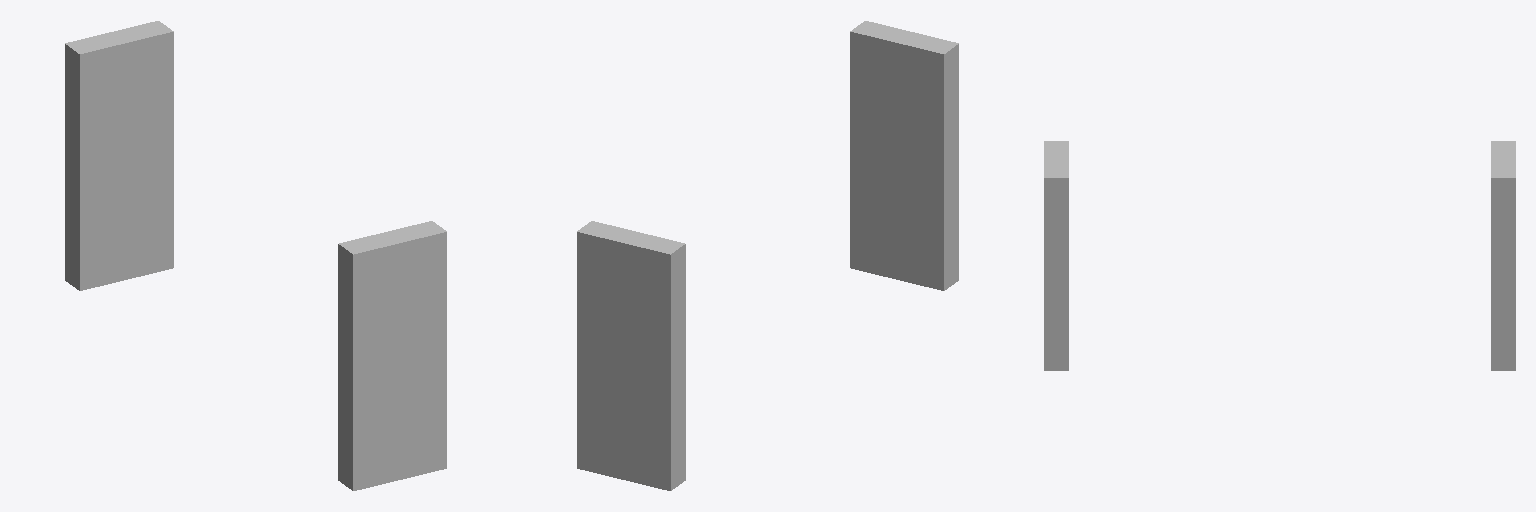
The robot description file, URDF, robot "lbr_iiwa":
<?xml version="1.0" ?>
<!-- ======================================================================= -->
<!-- | This document was autogenerated by xacro from lbr_iiwa.urdf.xacro   | -->
<!-- | Original xacro: https://github.com/rtkg/lbr_iiwa/archive/master.zip | -->
<!-- | EDITING THIS FILE BY HAND IS NOT RECOMMENDED                        | -->
<!-- | Changes ([author]):                                                 | -->
<!-- |   * Removed gazebo tags.                                            | -->
<!-- |   * Removed unused materials.                                       | -->
<!-- |   * Made mesh paths relative.                                       | -->
<!-- |   * Removed material fields from collision segments.                | -->
<!-- |   * Removed the self_collision_checking segment.                    | -->
<!-- |   * Removed transmission segments, since they didn't match the      | -->
<!-- |     convention, will have to added back later.                      | -->
<!-- ======================================================================= -->
<!--LICENSE:                                                                 -->
<!--Copyright (c) 2015, [author] & [author], AASS Research Center,  -->
<!--Orebro University, Sweden                                                -->
<!--All rights reserved.                                                     -->
<!--                                                                         -->
<!--Redistribution and use in source and binary forms, with or without       -->
<!--modification, are permitted provided that the following conditions are   -->
<!--met:                                                                     -->
<!--                                                                         -->
<!--1. Redistributions of source code must retain the above copyright notice,-->
<!--   this list of conditions and the following disclaimer.                 -->
<!--                                                                         -->
<!--2. Redistributions in binary form must reproduce the above copyright     -->
<!--   notice, this list of conditions and the following disclaimer in the   -->
<!--   documentation and/or other materials provided with the distribution.  -->
<!--                                                                         -->
<!--THIS SOFTWARE IS PROVIDED BY THE COPYRIGHT [author] "AS  -->
<!--IS" AND ANY EXPRESS OR IMPLIED WARRANTIES, INCLUDING, BUT NOT LIMITED TO,-->
<!--THE IMPLIED WARRANTIES OF MERCHANTABILITY AND FITNESS FOR A PARTICULAR   -->
<!--PURPOSE ARE DISCLAIMED. IN NO EVENT SHALL THE COPYRIGHT [author]        -->
<!--CONTRIBUTORS BE LIABLE FOR ANY DIRECT, INDIRECT, INCIDENTAL, SPECIAL,    -->
<!--EXEMPLARY, OR CONSEQUENTIAL DAMAGES (INCLUDING, BUT NOT LIMITED TO,      -->
<!--PROCUREMENT OF SUBSTITUTE GOODS OR SERVICES; LOSS OF USE, DATA, OR       -->
<!--PROFITS; OR BUSINESS INTERRUPTION) HOWEVER CAUSED AND ON ANY THEORY OF   -->
<!--LIABILITY, WHETHER IN CONTRACT, STRICT LIABILITY, OR TORT (INCLUDING     -->
<!--NEGLIGENCE OR OTHERWISE) ARISING IN ANY WAY OUT OF THE USE OF THIS       -->
<!--SOFTWARE, EVEN IF ADVISED OF THE POSSIBILITY OF SUCH DAMAGE.             -->
<robot name="lbr_iiwa" xmlns:xacro="http://www.ros.org/wiki/xacro">
  <!-- Import Rviz colors -->
  <material name="Grey">
    <color rgba="0.8 0.8 0.8 1"/>
  </material>
  <material name="Orange">
    <color rgba="1.0 0.423529411765 0.0392156862745 1.0"/>
  </material>
  <material name="Blue">
    <color rgba="0.8 0.8 0.8 1"/>
  </material>
  <material name="Metal">
    <color rgba="0.8 0.8 0.8 1"/>
    <!--color rgba="0.792156862745098 0.819607843137255 0.933333333333333 1"/  -->
  </material>


  <!--Import the lbr iiwa macro -->
  <!--Import Transmissions -->
  <!--Include Utilities -->
  <!--The following macros are adapted from the LWR 4 definitions of the RCPRG - https://github.com/RCPRG-ros-pkg/lwr_robot -->
  <!--Little helper macros to define the inertia matrix needed for links.-->
  <!--Cuboid-->
  <!--Cylinder: length is along the y-axis! -->
  <!--lbr-->
  <link name="lbr_iiwa_link_0">
    <inertial>
      <origin rpy="0 0 0" xyz="-0.1 0 0.07"/>
      <!--Increase mass from 5 Kg original to provide a stable base to carry the
          arm.-->
      <mass value="0.0"/>
      <!-- <mass value="5.0"/> -->
      <inertia ixx="0.05" ixy="0" ixz="0" iyy="0.06" iyz="0" izz="0.03"/>
    </inertial>
    <visual>
      <origin rpy="0 0 0" xyz="0 0 0"/>
      <geometry>
        <mesh filename="meshes/link_0.obj"/>
      </geometry>
      <material name="Grey"/>
    </visual>
    <collision>
      <origin rpy="0 0 0" xyz="0 0 0"/>
      <geometry>
        <mesh filename="meshes/link_0.stl"/>
      </geometry>
    </collision>
  </link>
  <!-- joint between link_0 and link_1 -->
  <joint name="lbr_iiwa_joint_1" type="revolute">
    <parent link="lbr_iiwa_link_0"/>
    <child link="lbr_iiwa_link_1"/>
    <origin rpy="0 0 0" xyz="0 0 0.1575"/>
    <axis xyz="0 0 1"/>
    <limit effort="300" lower="-2.96705972839" upper="2.96705972839" velocity="10"/>
    <dynamics damping="0.5"/>
  </joint>
  <link name="lbr_iiwa_link_1">
    <inertial>
      <origin rpy="0 0 0" xyz="0 -0.03 0.12"/>
      <mass value="4"/>
      <inertia ixx="0.1" ixy="0" ixz="0" iyy="0.09" iyz="0" izz="0.02"/>
    </inertial>
    <visual>
      <origin rpy="0 0 0" xyz="0 0 0"/>
      <geometry>
        <mesh filename="meshes/link_1.obj"/>
      </geometry>
      <material name="Blue"/>
    </visual>
    <collision>
      <origin rpy="0 0 0" xyz="0 0 0"/>
      <geometry>
        <mesh filename="meshes/link_1.stl"/>
      </geometry>
    </collision>
  </link>
  <!-- joint between link_1 and link_2 -->
  <joint name="lbr_iiwa_joint_2" type="revolute">
    <parent link="lbr_iiwa_link_1"/>
    <child link="lbr_iiwa_link_2"/>
    <origin rpy="1.57079632679   0 3.14159265359" xyz="0 0 0.2025"/>
    <axis xyz="0 0 1"/>
    <limit effort="300" lower="-2.09439510239" upper="2.09439510239" velocity="10"/>
    <dynamics damping="0.5"/>
  </joint>
  <link name="lbr_iiwa_link_2">
    <inertial>
      <origin rpy="0 0 0" xyz="0.0003 0.059 0.042"/>
      <mass value="4"/>
      <inertia ixx="0.05" ixy="0" ixz="0" iyy="0.018" iyz="0" izz="0.044"/>
    </inertial>
    <visual>
      <origin rpy="0 0 0" xyz="0 0 0"/>
      <geometry>
        <mesh filename="meshes/link_2.obj"/>
      </geometry>
      <material name="Blue"/>
    </visual>
    <collision>
      <origin rpy="0 0 0" xyz="0 0 0"/>
      <geometry>
        <mesh filename="meshes/link_2.stl"/>
      </geometry>
    </collision>
  </link>
  <!-- joint between link_2 and link_3 -->
  <joint name="lbr_iiwa_joint_3" type="revolute">
    <parent link="lbr_iiwa_link_2"/>
    <child link="lbr_iiwa_link_3"/>
    <origin rpy="1.57079632679 0 3.14159265359" xyz="0 0.2045 0"/>
    <axis xyz="0 0 1"/>
    <limit effort="300" lower="-2.96705972839" upper="2.96705972839" velocity="10"/>
    <dynamics damping="0.5"/>
  </joint>
  <link name="lbr_iiwa_link_3">
    <inertial>
      <origin rpy="0 0 0" xyz="0 0.03 0.13"/>
      <mass value="3"/>
      <inertia ixx="0.08" ixy="0" ixz="0" iyy="0.075" iyz="0" izz="0.01"/>
    </inertial>
    <visual>
      <origin rpy="0 0 0" xyz="0 0 0"/>
      <geometry>
        <mesh filename="meshes/link_3.obj"/>
      </geometry>
      <material name="Orange"/>
    </visual>
    <collision>
      <origin rpy="0 0 0" xyz="0 0 0"/>
      <geometry>
        <mesh filename="meshes/link_3.stl"/>
      </geometry>
    </collision>
  </link>
  <!-- joint between link_3 and link_4 -->
  <joint name="lbr_iiwa_joint_4" type="revolute">
    <parent link="lbr_iiwa_link_3"/>
    <child link="lbr_iiwa_link_4"/>
    <origin rpy="1.57079632679 0 0" xyz="0 0 0.2155"/>
    <axis xyz="0 0 1"/>
    <limit effort="300" lower="-2.09439510239" upper="2.09439510239" velocity="10"/>
    <dynamics damping="0.5"/>
  </joint>
  <link name="lbr_iiwa_link_4">
    <inertial>
      <origin rpy="0 0 0" xyz="0 0.067 0.034"/>
      <mass value="2.7"/>
      <inertia ixx="0.03" ixy="0" ixz="0" iyy="0.01" iyz="0" izz="0.029"/>
    </inertial>
    <visual>
      <origin rpy="0 0 0" xyz="0 0 0"/>
      <geometry>
        <mesh filename="meshes/link_4.obj"/>
      </geometry>
      <material name="Blue"/>
    </visual>
    <collision>
      <origin rpy="0 0 0" xyz="0 0 0"/>
      <geometry>
        <mesh filename="meshes/link_4.stl"/>
      </geometry>
    </collision>
  </link>
  <!-- joint between link_4 and link_5 -->
  <joint name="lbr_iiwa_joint_5" type="revolute">
    <parent link="lbr_iiwa_link_4"/>
    <child link="lbr_iiwa_link_5"/>
    <origin rpy="-1.57079632679 3.14159265359 0" xyz="0 0.1845 0"/>
    <axis xyz="0 0 1"/>
    <limit effort="300" lower="-2.96705972839" upper="2.96705972839" velocity="10"/>
    <dynamics damping="0.5"/>
  </joint>
  <link name="lbr_iiwa_link_5">
    <inertial>
      <origin rpy="0 0 0" xyz="0.0001 0.021 0.076"/>
      <mass value="1.7"/>
      <inertia ixx="0.02" ixy="0" ixz="0" iyy="0.018" iyz="0" izz="0.005"/>
    </inertial>
    <visual>
      <origin rpy="0 0 0" xyz="0 0 0"/>
      <geometry>
        <mesh filename="meshes/link_5.obj"/>
      </geometry>
      <material name="Blue"/>
    </visual>
    <collision>
      <origin rpy="0 0 0" xyz="0 0 0"/>
      <geometry>
        <mesh filename="meshes/link_5.stl"/>
      </geometry>
    </collision>
  </link>
  <!-- joint between link_5 and link_6 -->
  <joint name="lbr_iiwa_joint_6" type="revolute">
    <parent link="lbr_iiwa_link_5"/>
    <child link="lbr_iiwa_link_6"/>
    <origin rpy="1.57079632679 0 0" xyz="0 0 0.2155"/>
    <axis xyz="0 0 1"/>
    <limit effort="300" lower="-2.09439510239" upper="2.09439510239" velocity="10"/>
    <dynamics damping="0.5"/>
  </joint>
  <link name="lbr_iiwa_link_6">
    <inertial>
      <origin rpy="0 0 0" xyz="0 0.0006 0.0004"/>
      <mass value="1.8"/>
      <inertia ixx="0.005" ixy="0" ixz="0" iyy="0.0036" iyz="0" izz="0.0047"/>
    </inertial>
    <visual>
      <origin rpy="0 0 0" xyz="0 0 0"/>
      <geometry>
        <mesh filename="meshes/link_6.obj"/>
      </geometry>
      <material name="Orange"/>
    </visual>
    <collision>
      <origin rpy="0 0 0" xyz="0 0 0"/>
      <geometry>
        <mesh filename="meshes/link_6.stl"/>
      </geometry>
    </collision>
  </link>
  <!-- joint between link_6 and link_7 -->
  <joint name="lbr_iiwa_joint_7" type="revolute">
    <parent link="lbr_iiwa_link_6"/>
    <child link="lbr_iiwa_link_7"/>
    <origin rpy="-1.57079632679 3.14159265359 0" xyz="0 0.081 0"/>
    <axis xyz="0 0 1"/>
    <limit effort="300" lower="-3.05432619099" upper="3.05432619099" velocity="10"/>
    <dynamics damping="0.5" friction="1.0"/>
  </joint>
  <link name="lbr_iiwa_link_7">
    <inertial>
      <origin rpy="0 0 0" xyz="0 0 0.02"/>
      <!-- <mass value="0.3"/> -->
      <mass value="1.0"/>
      <inertia ixx="0.001" ixy="0" ixz="0" iyy="0.001" iyz="0" izz="0.001"/>
    </inertial>
    <visual>
      <origin rpy="0 0 0" xyz="0 0 0"/>
      <geometry>
        <mesh filename="meshes/link_7.obj"/>
      </geometry>
      <material name="Grey"/>
    </visual>
    <collision>
      <origin rpy="0 0 0" xyz="0 0 0"/>
      <geometry>
        <mesh filename="meshes/link_7.stl"/>
      </geometry>
    </collision>
  </link>


  <joint name="joint_vacuum_tip" type="revolute">
    <origin rpy="0 0 0" xyz="0.0 0.0 0.01"/>
    <parent link="lbr_iiwa_link_7"/>
    <child link="robotiq_arg2f_base_link"/>
    <axis xyz="0 0 1"/>
    <limit effort="1000" lower="-200" upper="200" velocity="2.0"/>
  </joint>


<!--################################################
  ########              gripper                  #####
  ####################################################-->

  <link name="robotiq_arg2f_base_link">
    <inertial>
      <origin rpy="0 0 0" xyz="8.625E-08 -4.6583E-06 0.03145"/>
      <mass value="0.22652"/>
      <inertia ixx="0.00020005" ixy="-4.2442E-10" ixz="-2.9069E-10" iyy="0.00017832" iyz="-3.4402E-08" izz="0.00013478"/>
    </inertial>
    <visual>
      <origin rpy="0 0 0" xyz="0 0 0"/>
      <geometry>
        <mesh filename="robotiq_140/visual/robotiq_arg2f_base_link.stl"/>
      </geometry>
      <material name="">
        <color rgba="0.1 0.1 0.1 1"/>
      </material>
    </visual>
    <collision>
      <origin rpy="0 0 0" xyz="0 0 0"/>
      <geometry>
        <mesh filename="robotiq_140/collision/robotiq_arg2f_base_link.stl"/>
      </geometry>
    </collision>
  </link>
  <link name="left_outer_knuckle">
    <inertial>
      <origin rpy="0 0 0" xyz="-0.000200000000003065 0.0199435877845359 0.0292245259211331"/>
      <mass value="0.00853198276973456"/>
      <inertia ixx="2.89328108496468E-06" ixy="-1.57935047237397E-19" ixz="-1.93980378593255E-19" iyy="1.86719750325683E-06" iyz="-1.21858577871576E-06" izz="1.21905238907251E-06"/>
    </inertial>
    <visual>
      <origin rpy="0 0 0" xyz="0 0 0"/>
      <geometry>
        <mesh filename="robotiq_140/visual/robotiq_arg2f_140_outer_knuckle.stl"/>
      </geometry>
      <material name="Metal"/>
    </visual>
    <collision>
      <origin rpy="0 0 0" xyz="0 0 0"/>
      <geometry>
        <mesh filename="robotiq_140/collision/robotiq_arg2f_140_outer_knuckle.stl"/>
      </geometry>
    </collision>
  </link>
  <link name="left_outer_finger">
    <inertial>
      <origin rpy="0 0 0" xyz="0.00030115855001899 0.0373907951953854 -0.0208027427000385"/>
      <mass value="0.022614240507152"/>
      <inertia ixx="1.52518312458174E-05" ixy="9.76583423954399E-10" ixz="-5.43838577022588E-10" iyy="6.17694243867776E-06" iyz="6.78636130740228E-06" izz="1.16494917907219E-05"/>
    </inertial>
    <visual>
      <origin rpy="0 0 0" xyz="0 0 0"/>
      <geometry>
        <mesh filename="robotiq_140/visual/robotiq_arg2f_140_outer_finger.stl"/>
      </geometry>
      <material name="">
        <color rgba="0.1 0.1 0.1 1"/>
      </material>
    </visual>
    <collision>
      <origin rpy="0 0 0" xyz="0 0 0"/>
      <geometry>
        <mesh filename="robotiq_140/collision/robotiq_arg2f_140_outer_finger.stl"/>
      </geometry>
    </collision>
  </link>
  <link name="left_inner_finger">
    <inertial>
      <origin rpy="0 0 0" xyz="0.000299999999999317 0.0160078233491243 -0.0136945669206257"/>
      <mass value="0.0104003125914103"/>
      <inertia ixx="2.71909453810972E-06" ixy="1.35402465472579E-21" ixz="-7.1817349065269E-22" iyy="7.69100314106116E-07" iyz="6.74715432769696E-07" izz="2.30315190420171E-06"/>
    </inertial>
    <visual>
      <origin rpy="0 0 0" xyz="0 0 0"/>
      <geometry>
        <mesh filename="robotiq_140/visual/robotiq_arg2f_140_inner_finger.stl"/>
      </geometry>
      <material name="">
        <color rgba="0.1 0.1 0.1 1"/>
      </material>
    </visual>
    <collision>
      <origin rpy="0 0 0" xyz="0 0 0"/>
      <geometry>
        <mesh filename="robotiq_140/collision/robotiq_arg2f_140_inner_finger.stl"/>
      </geometry>
    </collision>
  </link>
  <link name="left_inner_finger_pad">
    <inertial>
      <mass value="1."/>
      <inertia ixx="1E-10" ixy="1E-10" ixz="1E-10" iyy="1E-10" iyz="1E-10" izz="1E-10"/>
    </inertial>

    <visual>
      <origin rpy="0 0 0" xyz="0 0 0"/>
      <geometry>
        <box size="0.027 0.065 0.0075"/>
      </geometry>
      <material name="Metal"/>
    </visual>
    <collision>
      <origin rpy="0 0 0" xyz="0 0 0"/>
      <geometry>
        <box size="0.027 0.065 0.0075"/>
      </geometry>
    </collision>
  </link>
  <link name="left_inner_knuckle">
    <inertial>
      <origin rpy="0 0 0" xyz="0.000123011831763771 0.0507850843201817 0.00103968640075166"/>
      <mass value="0.0271177346495152"/>
      <inertia ixx="2.61910379223783E-05" ixy="-2.43616858946494E-07" ixz="-6.37789906117123E-09" iyy="2.8270243746167E-06" iyz="-5.37200748039765E-07" izz="2.83695868220296E-05"/>
    </inertial>
    <visual>
      <origin rpy="0 0 0" xyz="0 0 0"/>
      <geometry>
        <mesh filename="robotiq_140/visual/robotiq_arg2f_140_inner_knuckle.stl"/>
      </geometry>
      <material name="">
        <color rgba="0.1 0.1 0.1 1"/>
      </material>
    </visual>
    <collision>
      <origin rpy="0 0 0" xyz="0 0 0"/>
      <geometry>
        <mesh filename="robotiq_140/collision/robotiq_arg2f_140_inner_knuckle.stl"/>
      </geometry>
    </collision>
  </link>
  <link name="right_outer_knuckle">
    <inertial>
      <origin rpy="0 0 0" xyz="-0.000200000000003065 0.0199435877845359 0.0292245259211331"/>
      <mass value="0.00853198276973456"/>
      <inertia ixx="2.89328108496468E-06" ixy="-1.57935047237397E-19" ixz="-1.93980378593255E-19" iyy="1.86719750325683E-06" iyz="-1.21858577871576E-06" izz="1.21905238907251E-06"/>
    </inertial>
    <visual>
      <origin rpy="0 0 0" xyz="0 0 0"/>
      <geometry>
        <mesh filename="robotiq_140/visual/robotiq_arg2f_140_outer_knuckle.stl"/>
      </geometry>
      <material name="Metal"/>
    </visual>
    <collision>
      <origin rpy="0 0 0" xyz="0 0 0"/>
      <geometry>
        <mesh filename="robotiq_140/collision/robotiq_arg2f_140_outer_knuckle.stl"/>
      </geometry>
    </collision>
  </link>
  <link name="right_outer_finger">
    <inertial>
      <origin rpy="0 0 0" xyz="0.00030115855001899 0.0373907951953854 -0.0208027427000385"/>
      <mass value="0.022614240507152"/>
      <inertia ixx="1.52518312458174E-05" ixy="9.76583423954399E-10" ixz="-5.43838577022588E-10" iyy="6.17694243867776E-06" iyz="6.78636130740228E-06" izz="1.16494917907219E-05"/>
    </inertial>
    <visual>
      <origin rpy="0 0 0" xyz="0 0 0"/>
      <geometry>
        <mesh filename="robotiq_140/visual/robotiq_arg2f_140_outer_finger.stl"/>
      </geometry>
      <material name="">
        <color rgba="0.1 0.1 0.1 1"/>
      </material>
    </visual>
    <collision>
      <origin rpy="0 0 0" xyz="0 0 0"/>
      <geometry>
        <mesh filename="robotiq_140/collision/robotiq_arg2f_140_outer_finger.stl"/>
      </geometry>
    </collision>
  </link>
  <link name="right_inner_finger">
    <inertial>
      <origin rpy="0 0 0" xyz="0.000299999999999317 0.0160078233491243 -0.0136945669206257"/>
      <mass value="0.0104003125914103"/>
      <inertia ixx="2.71909453810972E-06" ixy="1.35402465472579E-21" ixz="-7.1817349065269E-22" iyy="7.69100314106116E-07" iyz="6.74715432769696E-07" izz="2.30315190420171E-06"/>
    </inertial>
    <visual>
      <origin rpy="0 0 0" xyz="0 0 0"/>
      <geometry>
        <mesh filename="robotiq_140/visual/robotiq_arg2f_140_inner_finger.stl"/>
      </geometry>
      <material name="">
        <color rgba="0.1 0.1 0.1 1"/>
      </material>
    </visual>
    <collision>
      <origin rpy="0 0 0" xyz="0 0 0"/>
      <geometry>
        <mesh filename="robotiq_140/collision/robotiq_arg2f_140_inner_finger.stl"/>
      </geometry>
    </collision>
  </link>
  <link name="right_inner_finger_pad">
    <inertial>
      <mass value="1."/>
      <inertia ixx="1E-10" ixy="1E-10" ixz="1E-10" iyy="1E-10" iyz="1E-10" izz="1E-10"/>
    </inertial>

    <visual>
      <origin rpy="0 0 0" xyz="0 0 0"/>
      <geometry>
        <box size="0.027 0.065 0.0075"/>
      </geometry>
     <material name="Metal"/>
    </visual>
    <collision>
      <origin rpy="0 0 0" xyz="0 0 0"/>
      <geometry>
        <box size="0.027 0.065 0.0075"/>
      </geometry>
    </collision>
  </link>
  <link name="right_inner_knuckle">
    <inertial>
      <origin rpy="0 0 0" xyz="0.000123011831763771 0.0507850843201817 0.00103968640075166"/>
      <mass value="0.0271177346495152"/>
      <inertia ixx="2.61910379223783E-05" ixy="-2.43616858946494E-07" ixz="-6.37789906117123E-09" iyy="2.8270243746167E-06" iyz="-5.37200748039765E-07" izz="2.83695868220296E-05"/>
    </inertial>
    <visual>
      <origin rpy="0 0 0" xyz="0 0 0"/>
      <geometry>
        <mesh filename="robotiq_140/visual/robotiq_arg2f_140_inner_knuckle.stl"/>
      </geometry>
      <material name="">
        <color rgba="0.1 0.1 0.1 1"/>
      </material>
    </visual>
    <collision>
      <origin rpy="0 0 0" xyz="0 0 0"/>
      <geometry>
        <mesh filename="robotiq_140/collision/robotiq_arg2f_140_inner_knuckle.stl"/>
      </geometry>
    </collision>
  </link>

  <joint name="finger_joint" type="revolute">
    <origin rpy="2.2957963267948966 0 0" xyz="0 -0.030601 0.054905"/>
    <parent link="robotiq_arg2f_base_link"/>
    <child link="left_outer_knuckle"/>
    <axis xyz="-1 0 0"/>
    <limit effort="1000" lower="0" upper="0.7" velocity="2.0"/>
  </joint>
  <joint name="left_outer_finger_joint" type="fixed">
    <origin rpy="0 0 0" xyz="0 0.01821998610742 0.0260018192872234"/>
    <parent link="left_outer_knuckle"/>
    <child link="left_outer_finger"/>
    <axis xyz="1 0 0"/>
  </joint>

  <joint name="left_inner_knuckle_joint" type="revolute">
    <origin rpy="2.2957963267948966 0 0.0" xyz="0 -0.0127 0.06142"/>
    <parent link="robotiq_arg2f_base_link"/>
    <child link="left_inner_knuckle"/>
    <axis xyz="1 0 0"/>
    <limit effort="1000" upper="0" lower="-0.8757" velocity="2.0"/>
    <mimic joint="finger_joint" multiplier="-1" offset="0"/>
  </joint>
  
  <joint name="left_inner_finger_joint" type="revolute">
    <origin rpy="-0.725 0 0" xyz="0 0.0817554015893473 -0.0282203446692936"/>
    <parent link="left_outer_finger"/>
    <child link="left_inner_finger"/>
    <axis xyz="1 0 0"/>
    <limit effort="1000" lower="0" upper="0.8757" velocity="2.0"/>
    <mimic joint="finger_joint" multiplier="1" offset="0"/>
  </joint>
  <joint name="left_inner_finger_pad_joint" type="fixed">
    <origin rpy="0 0 0" xyz="0 0.0457554015893473 -0.0272203446692936"/>
    <parent link="left_inner_finger"/>
    <child link="left_inner_finger_pad"/>
    <axis xyz="0 0 1"/>
  </joint>
  <joint name="right_outer_knuckle_joint" type="revolute">
    <origin rpy="2.2957963267948966 0 3.141592653589793" xyz="0 0.030601 0.054905"/>
    <parent link="robotiq_arg2f_base_link"/>
    <child link="right_outer_knuckle"/>
    <axis xyz="1 0 0"/>
    <limit effort="1000" upper="0" lower="-0.725" velocity="2.0"/>
    <mimic joint="finger_joint" multiplier="-1" offset="0"/>
  </joint>
  <joint name="right_outer_finger_joint" type="fixed">
    <origin rpy="0 0 0" xyz="0 0.01821998610742 0.0260018192872234"/>
    <parent link="right_outer_knuckle"/>
    <child link="right_outer_finger"/>
    <axis xyz="1 0 0"/>
  </joint>
  <joint name="right_inner_knuckle_joint" type="revolute">
    <origin rpy="2.2957963267948966 0 -3.141592653589793" xyz="0 0.0127 0.06142"/>
    <parent link="robotiq_arg2f_base_link"/>
    <child link="right_inner_knuckle"/>
    <axis xyz="1 0 0"/>
    <limit effort="1000" upper="0" lower="-0.8757" velocity="2.0"/>
    <mimic joint="finger_joint" multiplier="-1" offset="0"/>
  </joint>
  <joint name="right_inner_finger_joint" type="revolute">
    <origin rpy="-0.725 0 0" xyz="0 0.0817554015893473 -0.0282203446692936"/>
    <parent link="right_outer_finger"/>
    <child link="right_inner_finger"/>
    <axis xyz="1 0 0"/>
    <limit effort="1000" lower="0" upper="0.8757" velocity="2.0"/>
    <mimic joint="finger_joint" multiplier="1" offset="0"/>
  </joint>
  <joint name="right_inner_finger_pad_joint" type="fixed">
    <origin rpy="0 0 0" xyz="0 0.0457554015893473 -0.0272203446692936"/>
    <parent link="right_inner_finger"/>
    <child link="right_inner_finger_pad"/>
    <axis xyz="0 0 1"/>
  </joint>


<!--  <transmission name="finger_joint_trans">-->
<!--    <type>transmission_interface/SimpleTransmission</type>-->
<!--    <joint name="finger_joint">-->
<!--      <hardwareInterface>PositionJointInterface</hardwareInterface>-->
<!--    </joint>-->
<!--    <actuator name="finger_joint_motor">-->
<!--      <mechanicalReduction>1</mechanicalReduction>-->
<!--    </actuator>-->
<!--  </transmission>-->


</robot>

--- Facts derived from the render (not from the file) ---
Views: 3 orthographic renders of the robot side by side, from view 1: azimuth 30°, elevation 25°; view 2: azimuth 150°, elevation 25°; view 3: azimuth 270°, elevation 25°.
Model lbr_iiwa with 19 links and 18 joints (14 revolute, 4 fixed), rooted at lbr_iiwa_link_0, posed all joints at 0.
Links seen in each view (by area): view 1: left_inner_finger_pad, right_inner_finger_pad; view 2: left_inner_finger_pad, right_inner_finger_pad; view 3: left_inner_finger_pad, right_inner_finger_pad.
Link boxes in pixels (left/top/right/bottom): left_inner_finger_pad: left=338, top=221, right=446, bottom=490; right_inner_finger_pad: left=65, top=21, right=173, bottom=290; left_inner_finger_pad: left=850, top=21, right=958, bottom=290; right_inner_finger_pad: left=577, top=221, right=685, bottom=490; left_inner_finger_pad: left=1044, top=141, right=1068, bottom=370; right_inner_finger_pad: left=1491, top=141, right=1515, bottom=370.
Bounding box of the posed robot: 0.027 × 0.1435 × 0.065 m (x, y, z).
Meshes: 13 distinct files referenced, 0 mesh visuals loaded (none loaded); not drawn: 17 (reference not matched to a file when rendering).